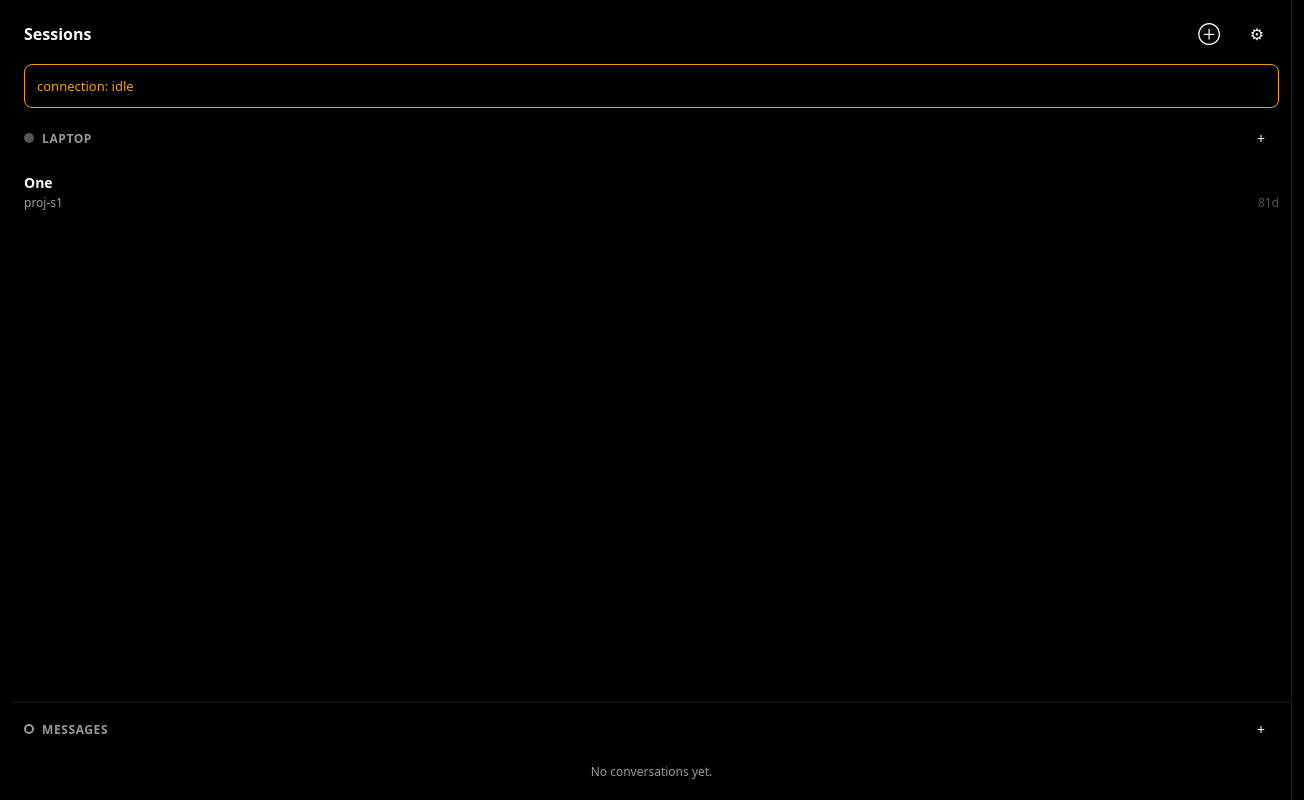
Test: swipe-to-delete on session cards › Undo within the window brings the card back into the sidebar
The width and height of the screenshot is (1304, 800).
Press the mouse on the button with test id "session-card" at (43, 203), box [12,160,1291,224]
Wait 200 ms
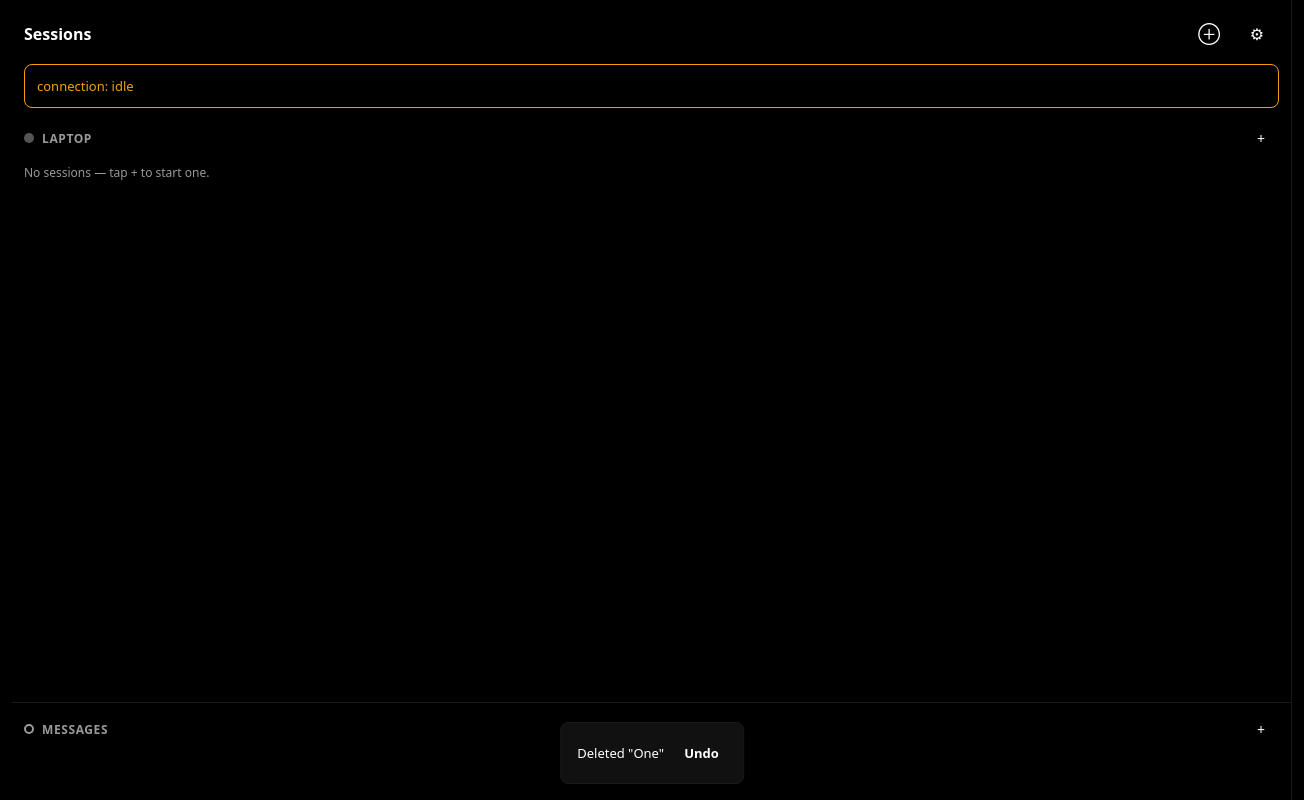
Now the button with test id "session-card" is gone
Click the button "Undo".
click(701, 753)  # box [676,731,727,775]
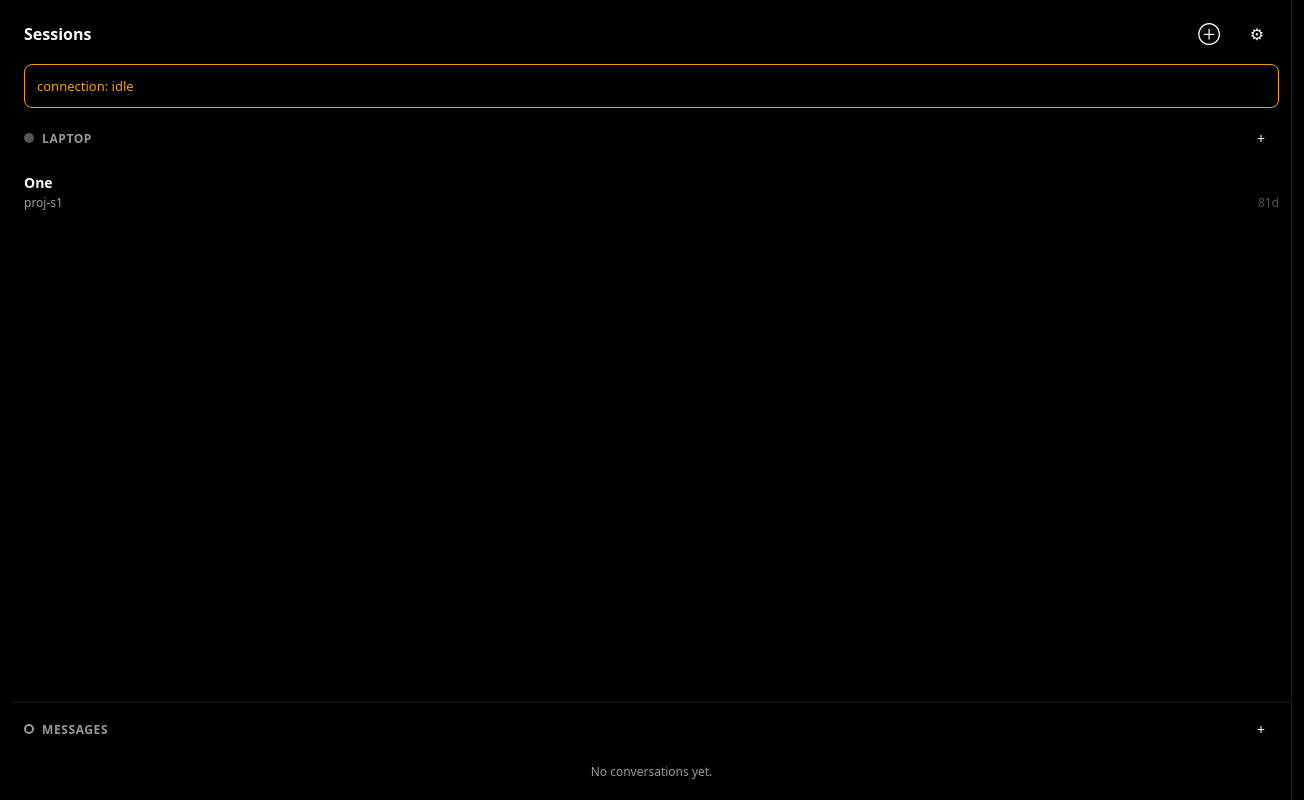
Now the button with test id "session-card" shows "One", box [12,160,1291,224]
Now the element with test id "undo-toast" is gone
